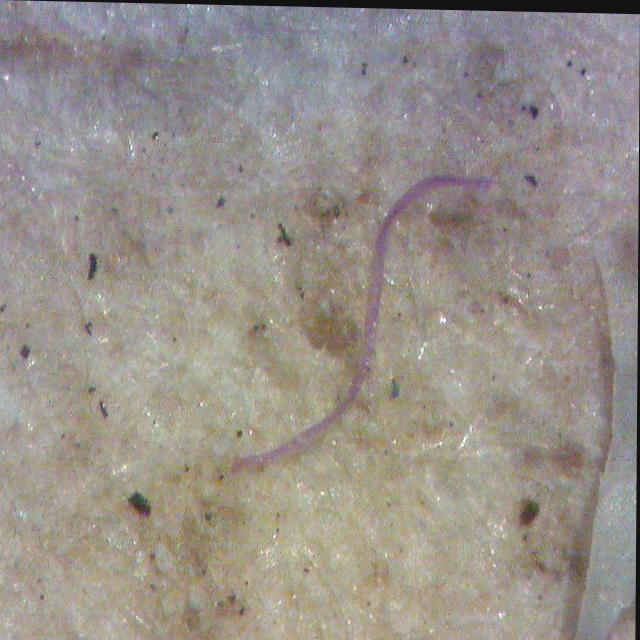microplastic: (221, 133, 505, 507)
